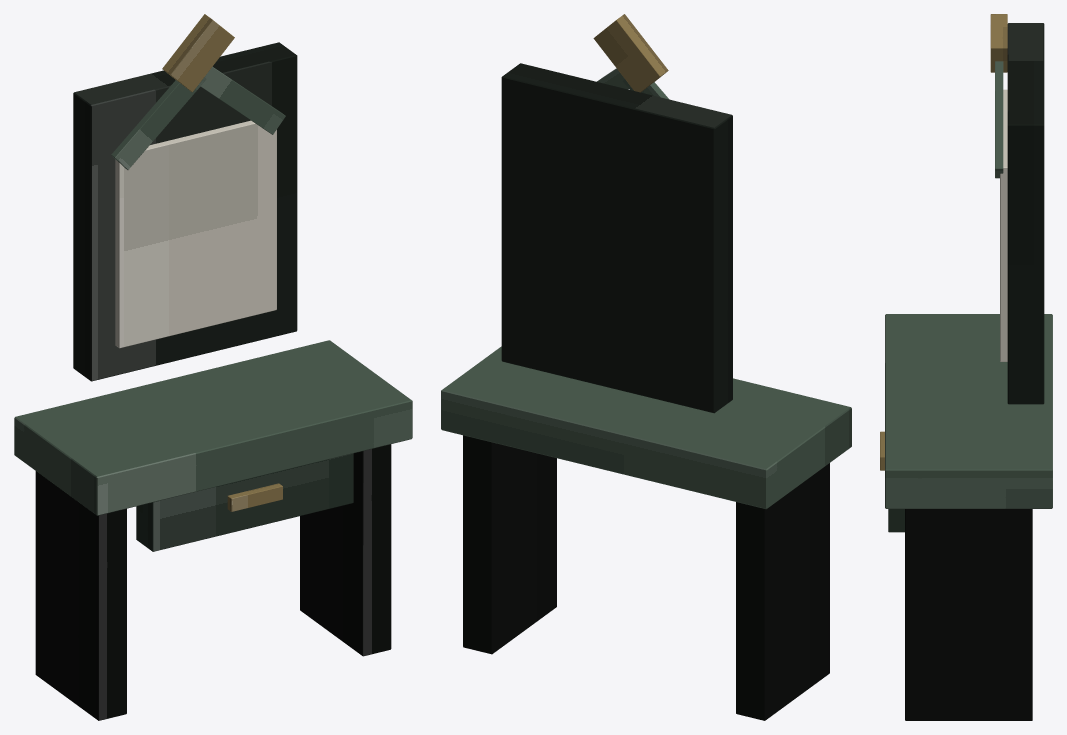
Rendered from gothic_vanity_forest.glb.
3 views of the same model, side by side, from view 1: azimuth 30°, elevation 25°; view 2: azimuth 150°, elevation 25°; view 3: azimuth 270°, elevation 25° (orthographic). The views are drawn at different scales.
Visible parts, largest first — view 1: VanityTop, MirrorGlass, MirrorBack, VanityLeg-0.46, VanityLeg0.46, VanityDrawer, MirrorSpire, MirrorArchLeft, MirrorArchRight, VanityPull; view 2: MirrorBack, VanityTop, VanityLeg-0.46, VanityLeg0.46, MirrorSpire; view 3: VanityTop, VanityLeg0.46, MirrorBack, MirrorGlass, MirrorArchRight, MirrorSpire, VanityDrawer.
Boxes of the visible parts, <box> form: VanityTop: <box>14,340,412,515</box>; MirrorGlass: <box>115,120,276,348</box>; MirrorBack: <box>73,42,297,381</box>; VanityLeg-0.46: <box>35,471,126,720</box>; VanityLeg0.46: <box>300,444,391,656</box>; VanityDrawer: <box>136,453,353,551</box>; MirrorSpire: <box>162,14,234,92</box>; MirrorArchLeft: <box>111,77,206,169</box>; MirrorArchRight: <box>198,66,285,134</box>; VanityPull: <box>227,483,282,511</box>; MirrorBack: <box>501,63,732,413</box>; VanityTop: <box>441,346,851,509</box>; VanityLeg-0.46: <box>736,463,829,720</box>; VanityLeg0.46: <box>463,435,556,654</box>; MirrorSpire: <box>593,14,668,92</box>; VanityTop: <box>885,314,1052,508</box>; VanityLeg0.46: <box>905,509,1032,720</box>; MirrorBack: <box>1007,23,1044,404</box>; MirrorGlass: <box>1000,89,1007,361</box>; MirrorArchRight: <box>995,61,1003,178</box>; MirrorSpire: <box>990,14,1007,72</box>; VanityDrawer: <box>888,509,904,532</box>.
Bounding box in the file's own units: 1.1 × 2.1 × 0.5145.
1 material, 1 textured.
